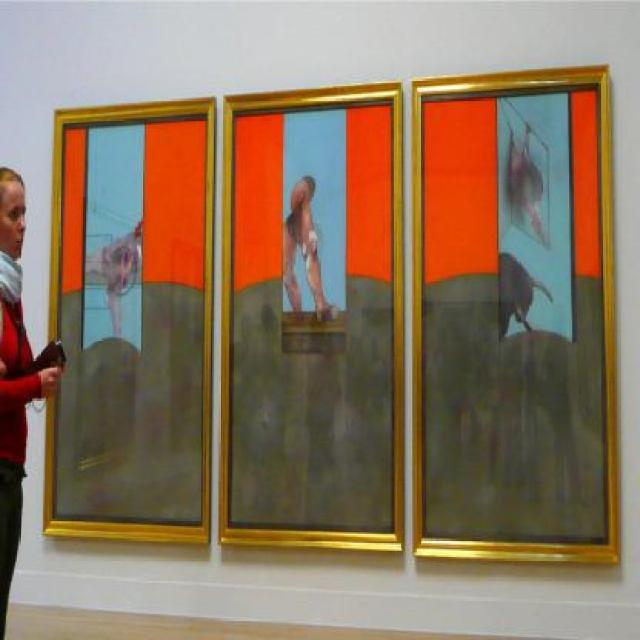Person: (0, 163, 68, 639)
